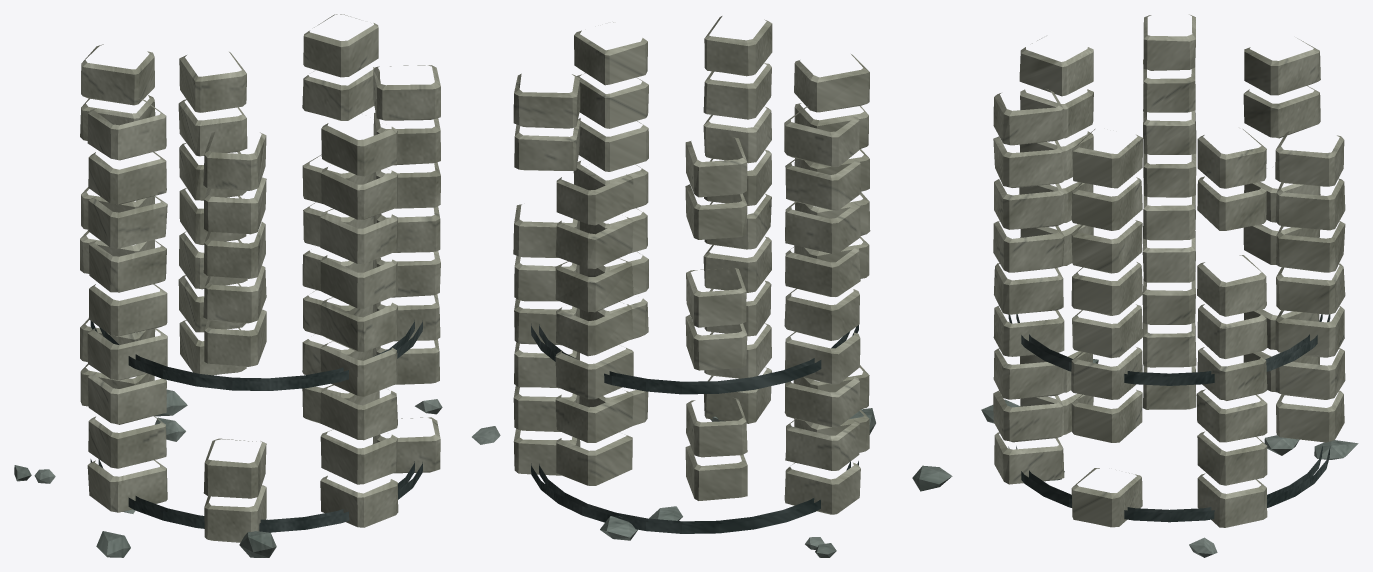
The model's file is 0421_ruined_tower_21.glb.
3 renders of one model, left to right at view 1: azimuth 30°, elevation 25°; view 2: azimuth 150°, elevation 25°; view 3: azimuth 270°, elevation 25°, orthographic. The views are drawn at different scales.
Visible parts, largest first — view 1: stone_light, stone_dark, stone; view 2: stone_light, stone_dark, stone; view 3: stone_light, stone_dark, stone.
Boxes of the visible parts, bbox=[...] form: stone_light: bbox=[80, 14, 440, 542]; stone_dark: bbox=[90, 320, 422, 532]; stone: bbox=[14, 389, 442, 557]; stone_light: bbox=[513, 16, 870, 514]; stone_dark: bbox=[531, 323, 858, 533]; stone: bbox=[472, 408, 952, 557]; stone_light: bbox=[993, 14, 1345, 527]; stone_dark: bbox=[1008, 314, 1330, 522]; stone: bbox=[981, 359, 1358, 557].
Size of the model in its own units: 4.09 by 3.77 by 3.39.
3 materials, 3 textured.
